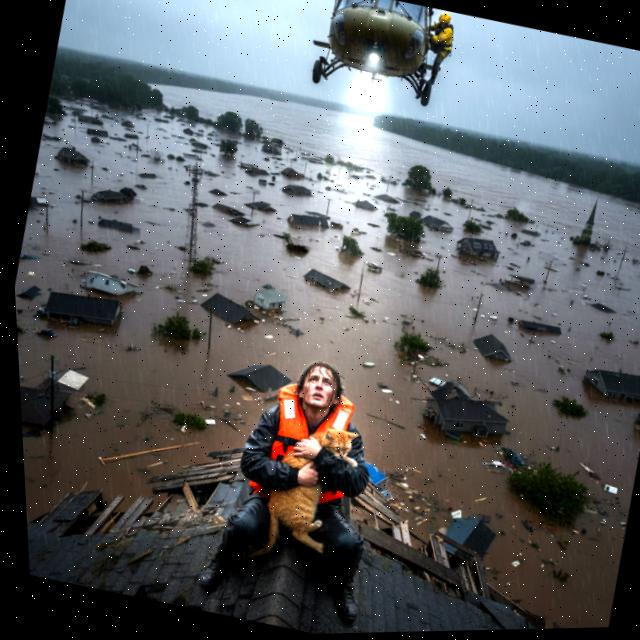cat: (250, 399, 375, 578)
civilian: (192, 336, 425, 636)
rescuer: (409, 6, 470, 92)
